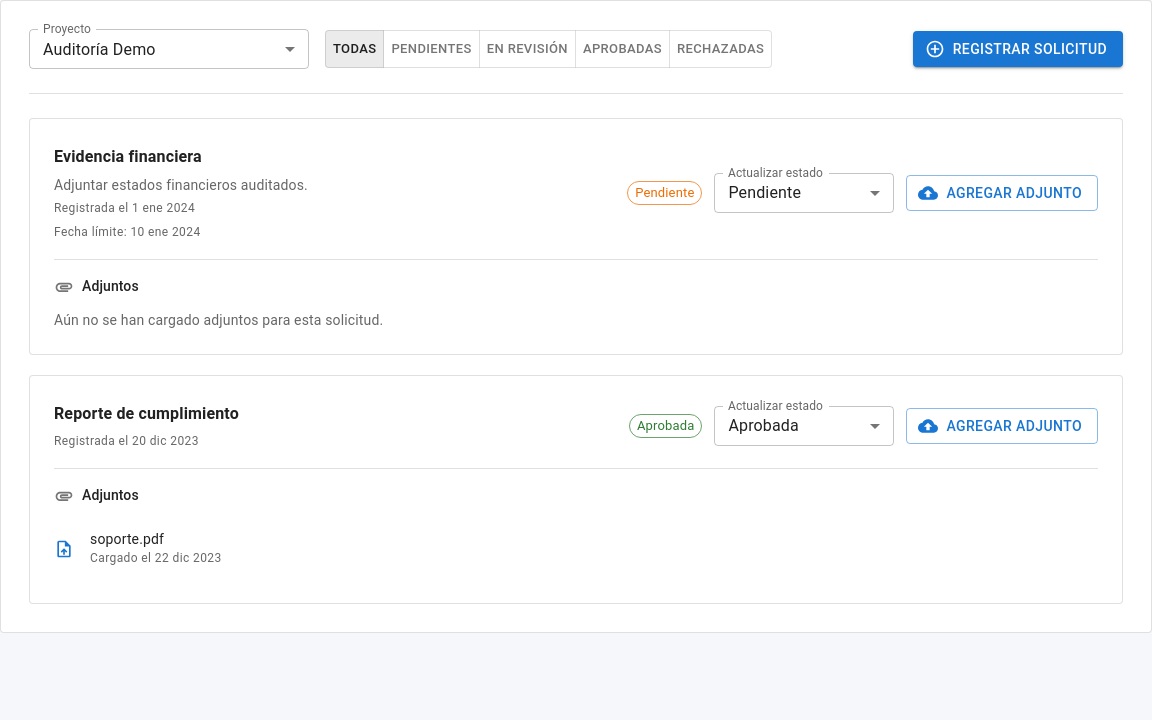
RequestBoard › valida y crea una solicitud mostrando mensajes de éxito
Click the button "Registrar solicitud".
click(1018, 49)  # box [913,31,1123,67]
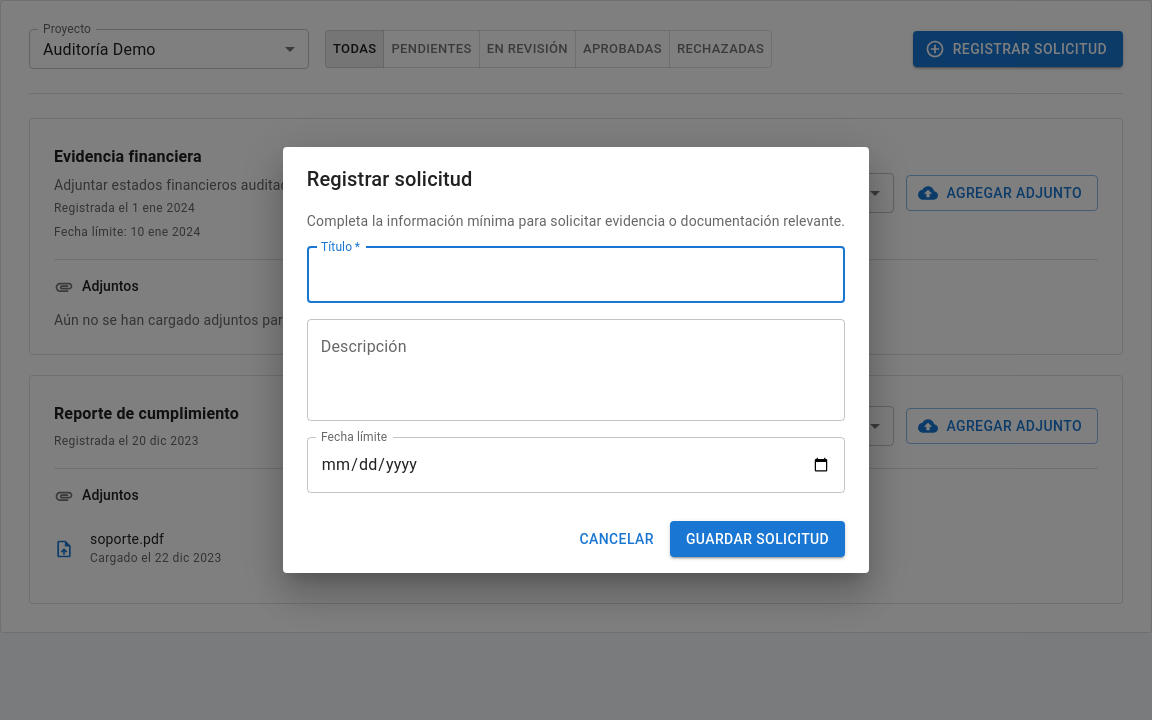
Click the button "Guardar solicitud".
click(758, 539)  # box [670,521,845,557]
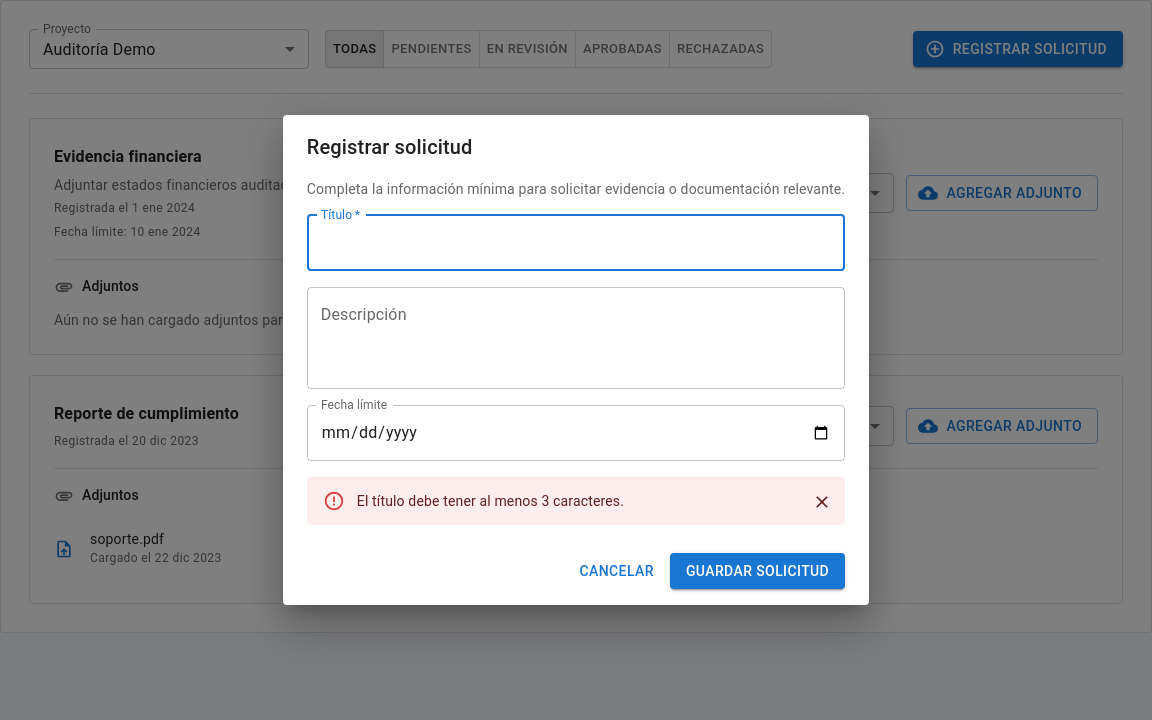
Expected: the text "El título debe tener al menos 3 caracteres." is shown, [357,493,624,509]
Type "Solicitud de inventario" into the field labelled "Título *".
click(576, 243); type("Solicitud de inventario")  # box [307,215,845,271]
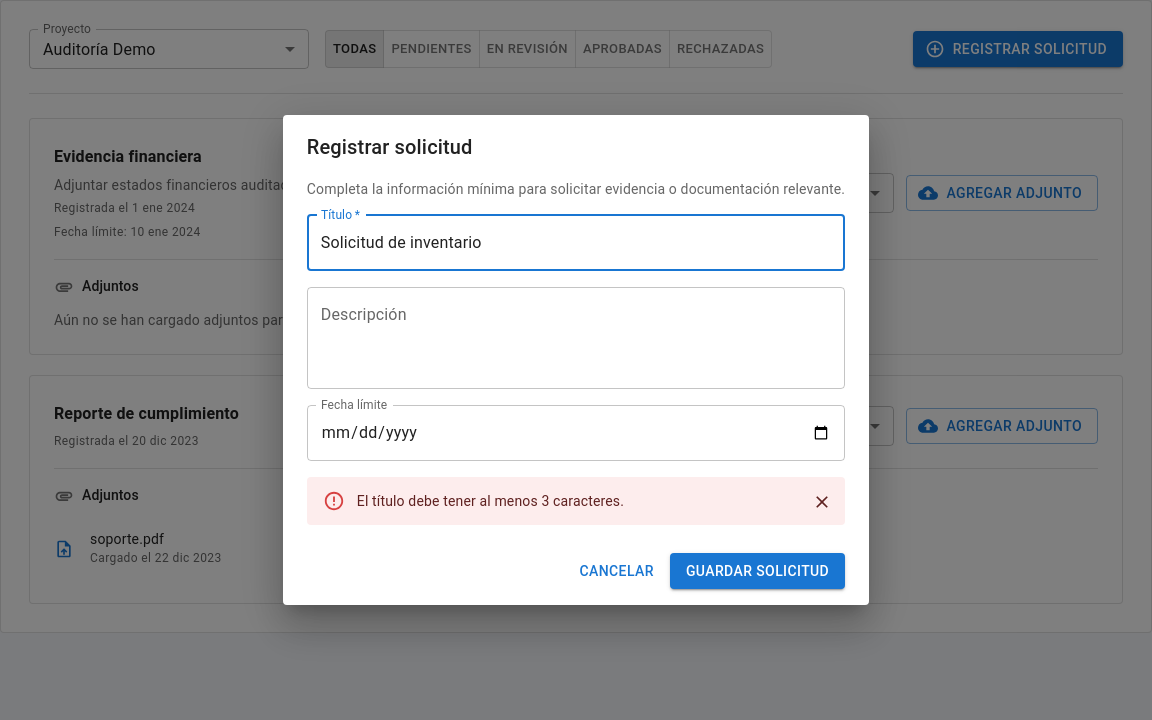
Type "Detalle de inventario 2024" into the text box labelled "Descripción".
click(576, 338); type("Detalle de inventario 2024")  # box [321,303,831,372]
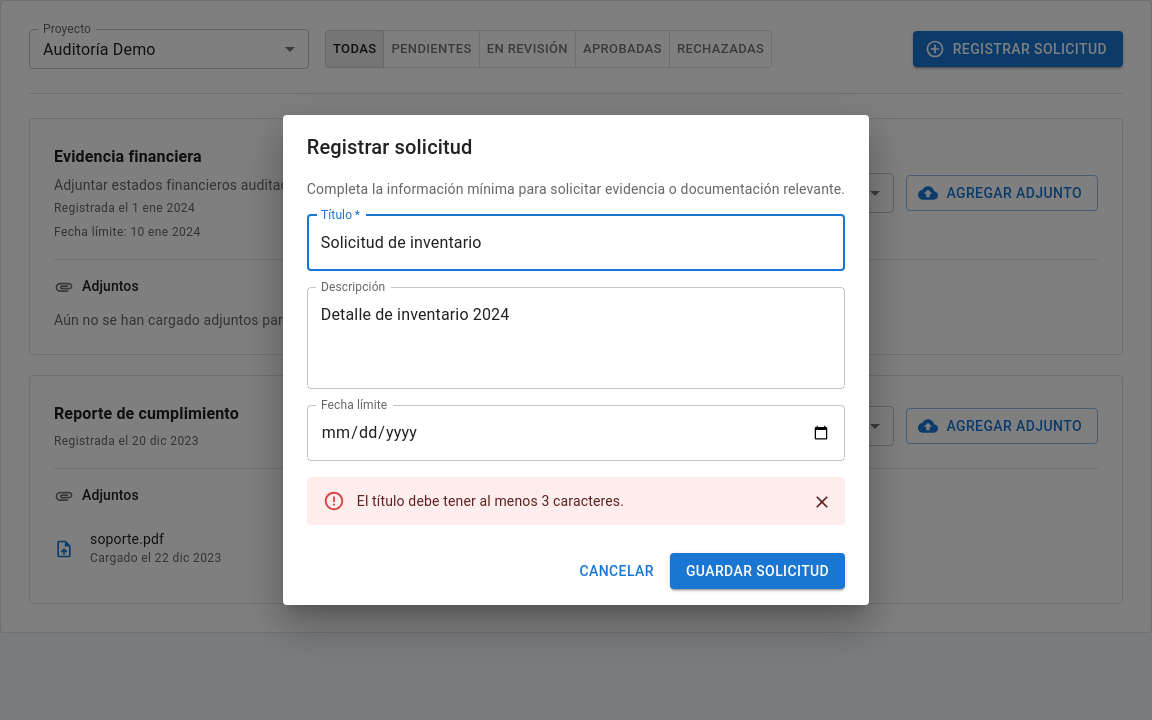
Type "2024-02-01" into the date field labelled "Fecha límite".
click(576, 433); type("2024-02-01")  # box [307,405,845,461]
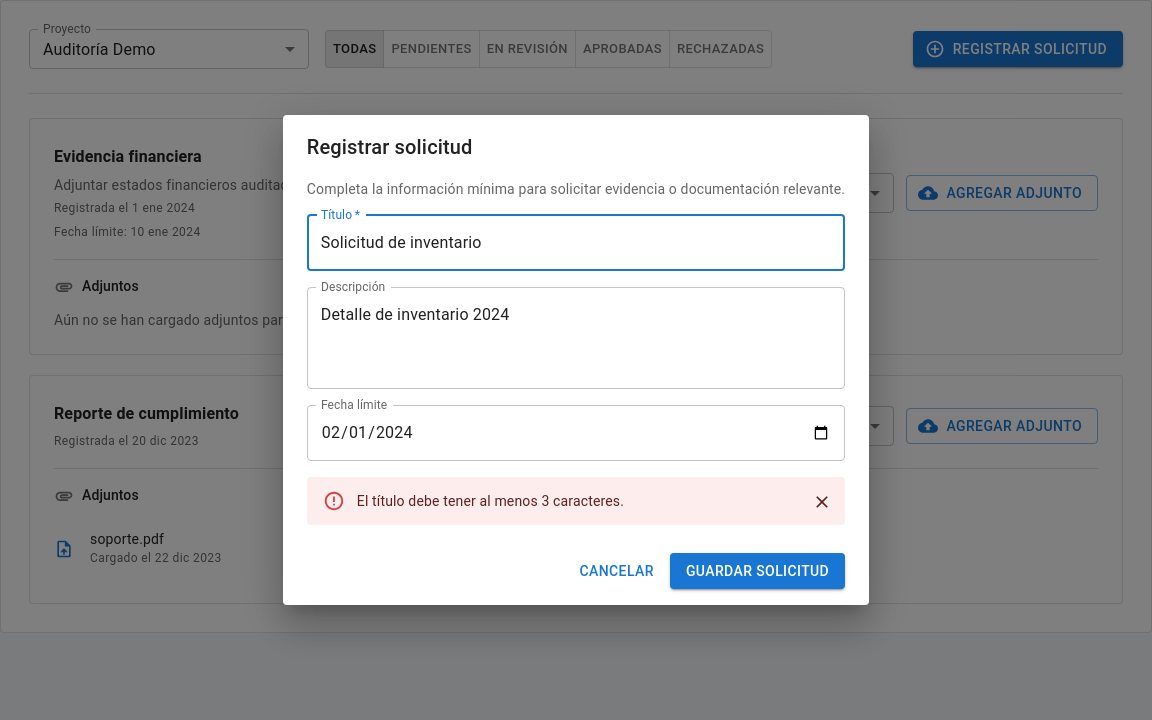
Click the button "Guardar solicitud".
click(758, 571)  # box [670,553,845,589]
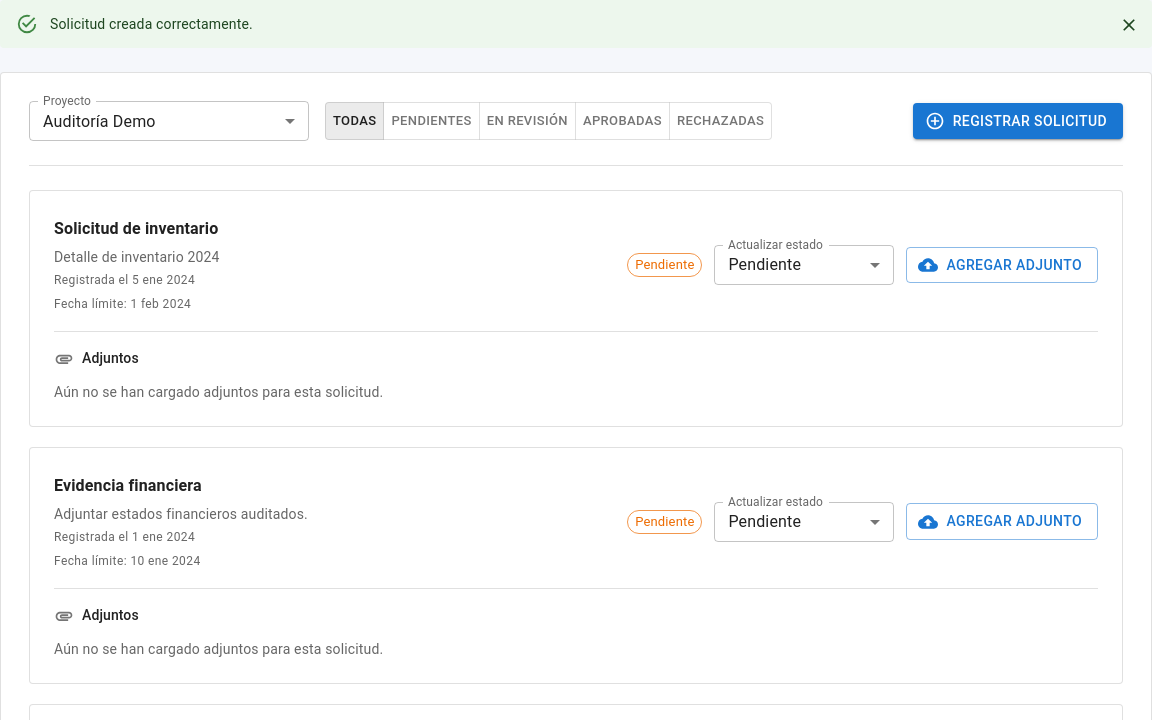
Expected: the text "Solicitud creada correctamente." is shown, [50,16,253,32]
